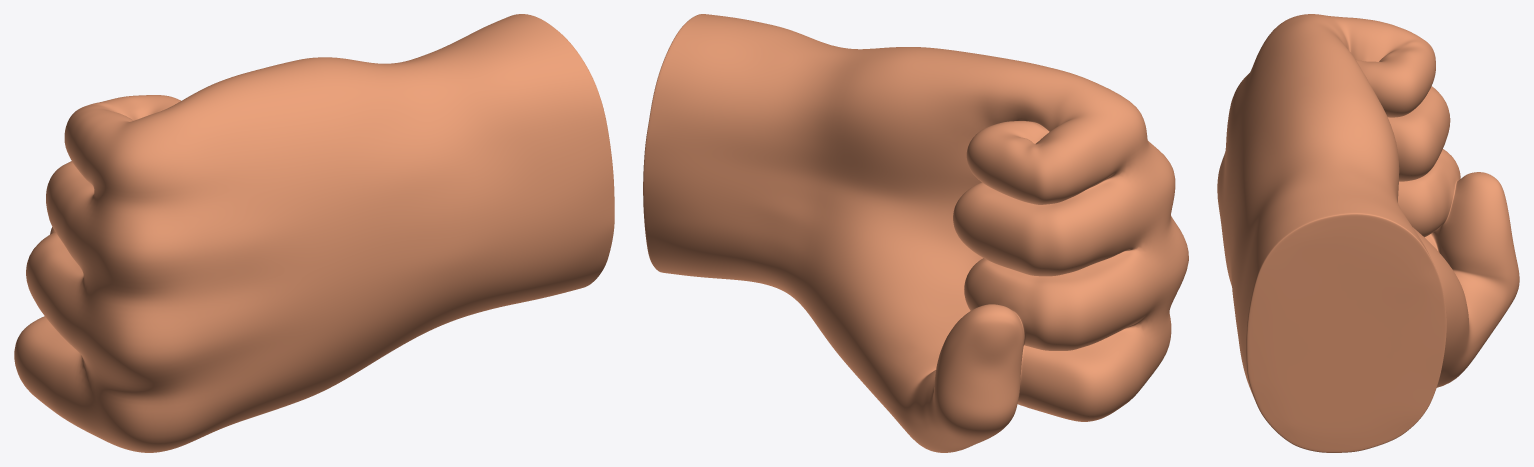
File: Hand.fbx
3 renders of one model, left to right at view 1: azimuth 30°, elevation 25°; view 2: azimuth 150°, elevation 25°; view 3: azimuth 270°, elevation 25°, orthographic. The views are drawn at different scales.
Parts seen in each view (by area): view 1: 11538_Hand_v2; view 2: 11538_Hand_v2; view 3: 11538_Hand_v2.
Boxes of the visible parts, left/top/right/bottom form: 11538_Hand_v2: left=14, top=14, right=614, bottom=452; 11538_Hand_v2: left=643, top=14, right=1188, bottom=452; 11538_Hand_v2: left=1217, top=14, right=1519, bottom=452.
Bounding box in the file's own units: 1211 × 836 × 684.
